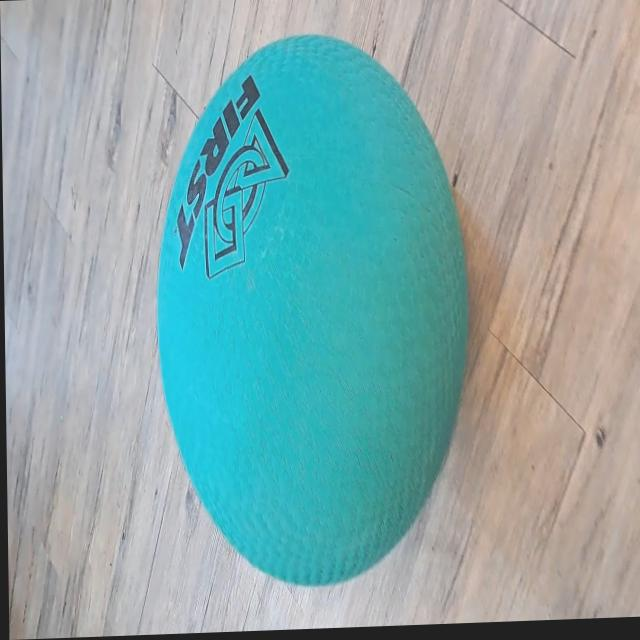ALGAE: (151, 25, 475, 595)
